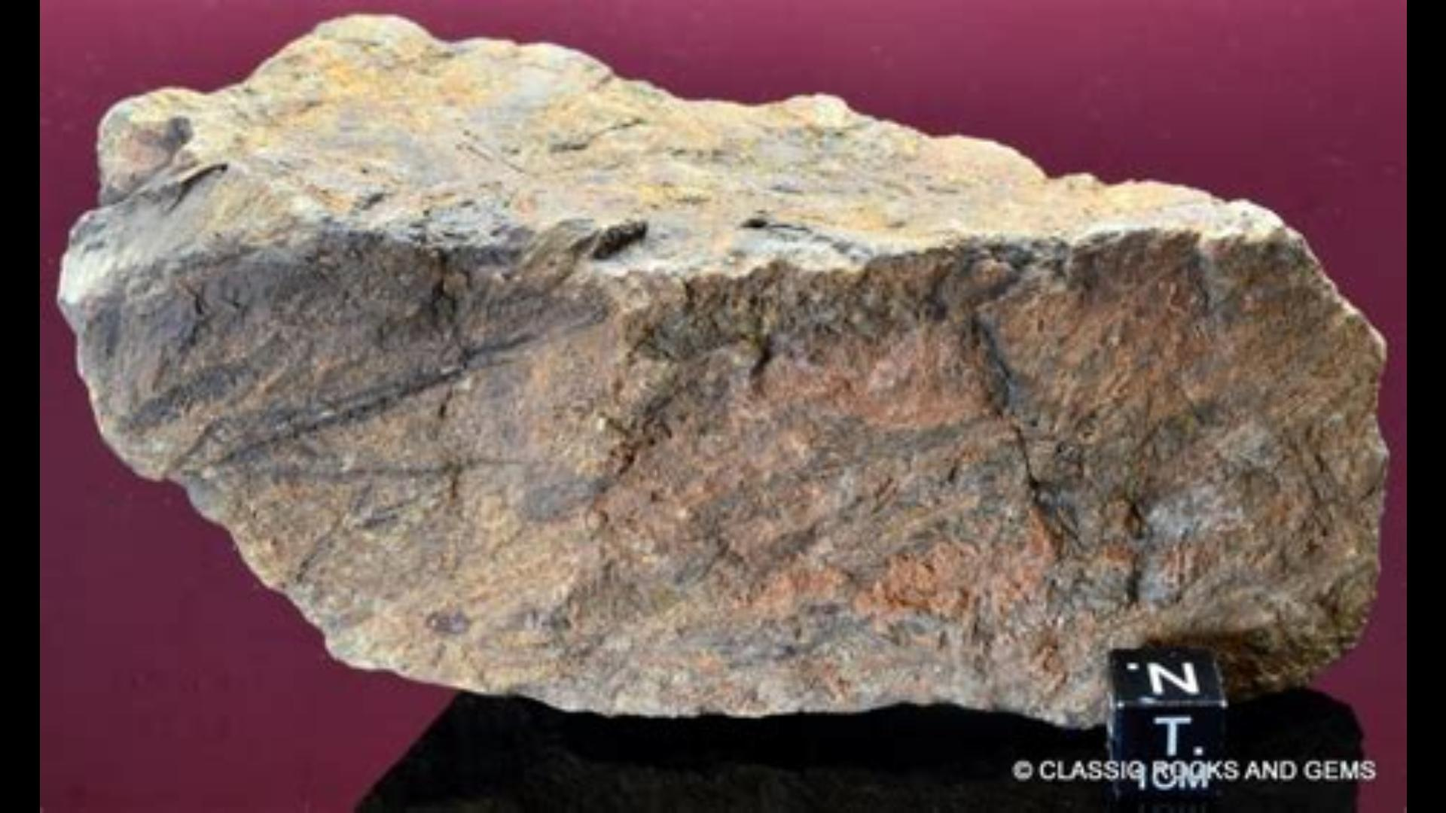rock: (59, 14, 1380, 724)
